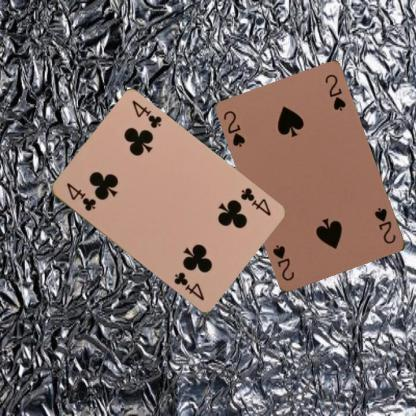2s: (372, 205, 398, 246), (220, 108, 246, 149)
4c: (238, 185, 272, 218), (63, 180, 97, 212)
